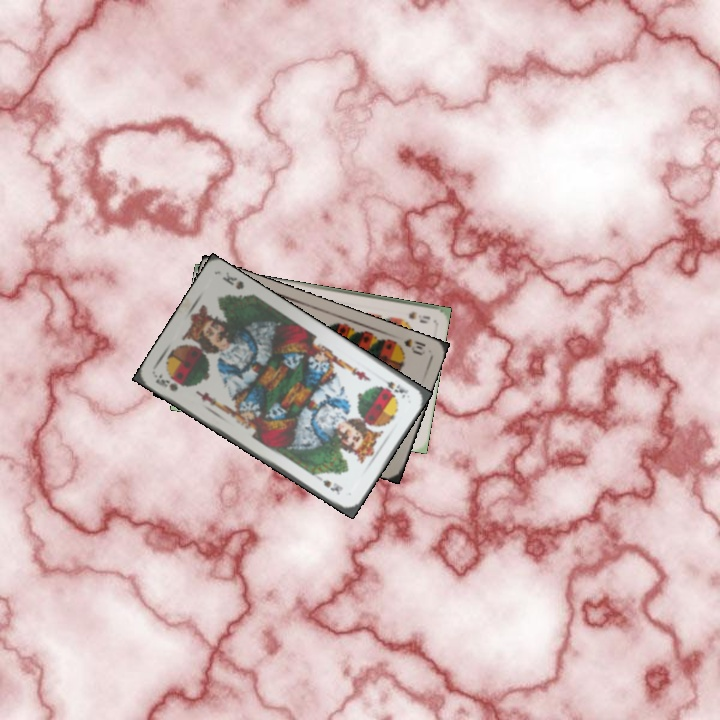S10: (389, 335, 428, 358)
S9: (404, 307, 433, 326)
SK: (375, 372, 411, 401), (152, 369, 181, 394)
